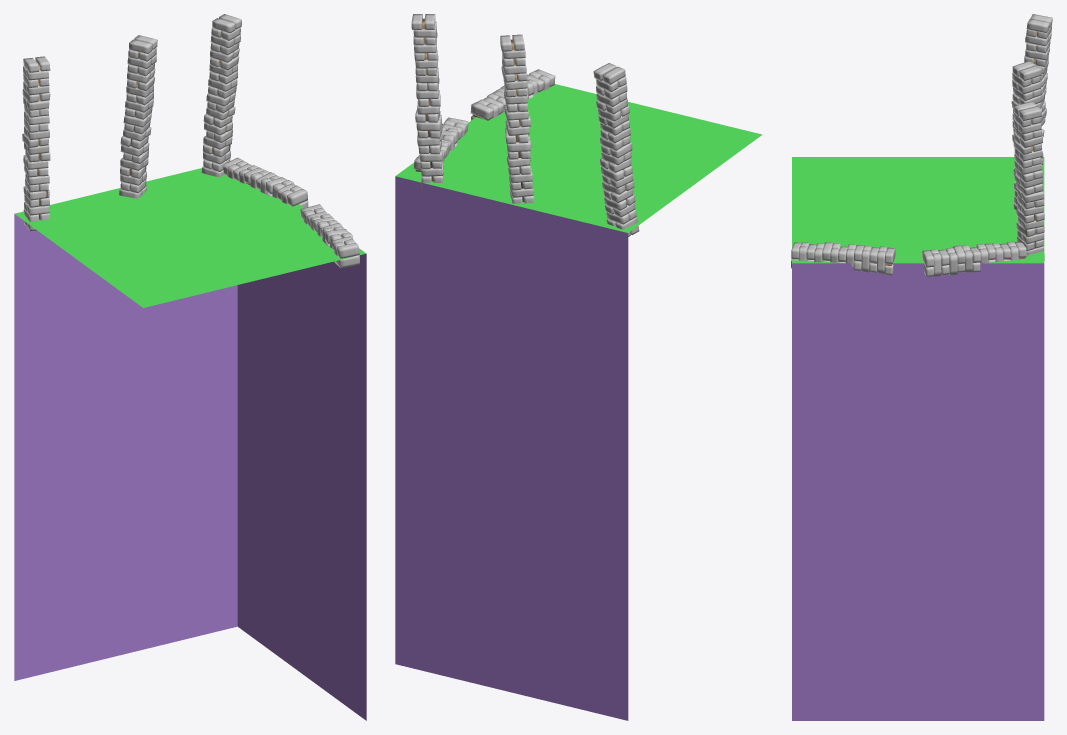
The model's file is RoomCorner_1.fbx.
3 renders of one model, left to right at view 1: azimuth 30°, elevation 25°; view 2: azimuth 150°, elevation 25°; view 3: azimuth 270°, elevation 25°, orthographic. The views are drawn at different scales.
Visible parts, largest first — view 1: RoomCorner_1; view 2: RoomCorner_1; view 3: RoomCorner_1.
Part boxes in pixels (x1,y1,x2,y2): RoomCorner_1: (14,14,366,720); RoomCorner_1: (395,14,762,720); RoomCorner_1: (791,14,1052,720).
Size of the model in its own units: 419 by 1058 by 415.
